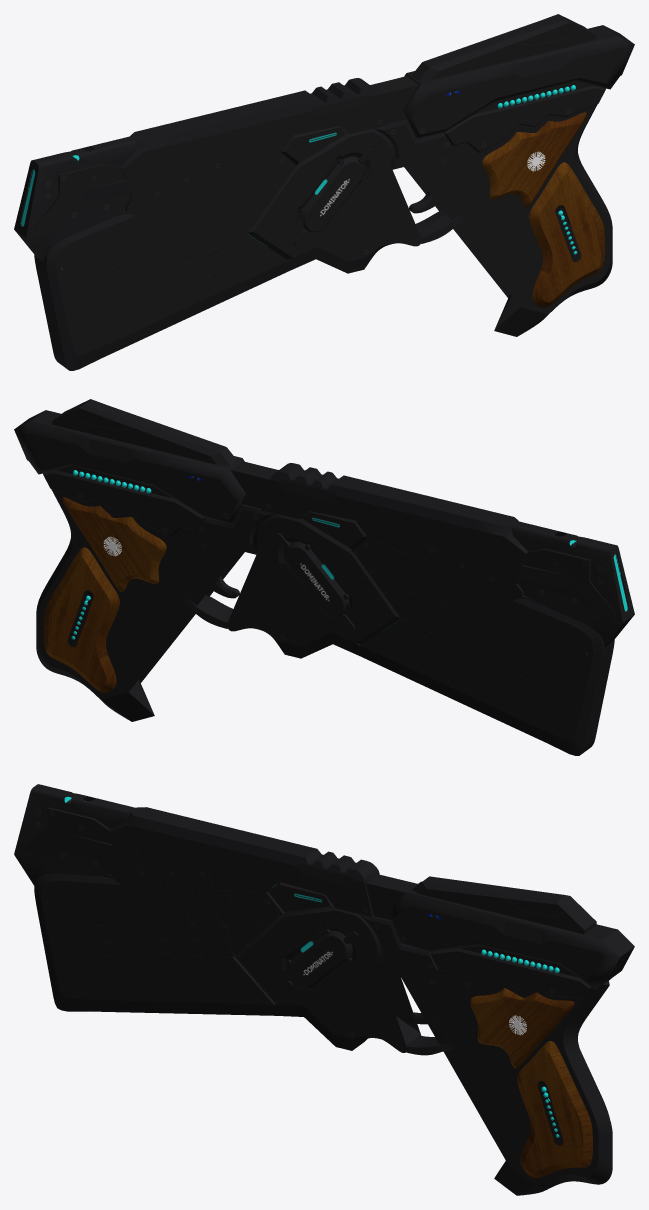
The model's file is Dominator.fbx.
3 renders of one model, top to bottom at view 1: azimuth 30°, elevation 25°; view 2: azimuth 150°, elevation 25°; view 3: azimuth 330°, elevation 25°, orthographic.
Parts seen in each view (by area): view 1: ベジエカーブ.005, ベジエカーブ.006, 平面.004, 平面.001, 平面.020, 平面, ベジエカーブ, 平面.024, ベジエカーブ.003, 平面.014, 平面.007, 平面.008 (+16 smaller); view 2: ベジエカーブ.005, ベジエカーブ.006, 平面.032, 平面.001, 平面.044, 平面.048, ベジエカーブ, 平面.024, ベジエカーブ.003, 平面.042, 平面.035, 平面.036 (+16 smaller); view 3: ベジエカーブ.005, ベジエカーブ.006, 平面.001, 平面.004, 平面.020, 平面, ベジエカーブ, 平面.024, ベジエカーブ.003, 平面.014, 平面.007, 平面.008 (+13 smaller).
Part boxes in pixels (<box>): ベジエカーブ.005: <box>343,76,612,336</box>; ベジエカーブ.006: <box>248,128,421,273</box>; 平面.004: <box>20,130,171,261</box>; 平面.001: <box>403,25,634,138</box>; 平面.020: <box>40,233,129,370</box>; 平面: <box>214,82,387,175</box>; ベジエカーブ: <box>529,162,604,307</box>; 平面.024: <box>411,14,596,80</box>; ベジエカーブ.003: <box>482,112,586,207</box>; 平面.014: <box>102,276,196,357</box>; 平面.007: <box>210,157,273,273</box>; 平面.008: <box>149,185,212,301</box>; ベジエカーブ.005: <box>36,461,305,721</box>; ベジエカーブ.006: <box>227,513,400,658</box>; 平面.032: <box>477,515,628,646</box>; 平面.001: <box>14,410,245,523</box>; 平面.044: <box>519,618,608,755</box>; 平面.048: <box>261,467,434,560</box>; ベジエカーブ: <box>44,547,119,692</box>; 平面.024: <box>52,399,237,465</box>; ベジエカーブ.003: <box>62,497,166,592</box>; 平面.042: <box>452,661,546,742</box>; 平面.035: <box>375,542,438,658</box>; 平面.036: <box>436,570,499,686</box>; ベジエカーブ.005: <box>332,874,612,1195</box>; ベジエカーブ.006: <box>235,906,421,1052</box>; 平面.001: <box>389,881,634,990</box>; 平面.004: <box>14,786,165,885</box>; 平面.020: <box>34,874,115,1011</box>; 平面: <box>199,832,373,916</box>; ベジエカーブ: <box>517,1041,592,1177</box>; 平面.024: <box>412,876,596,934</box>; ベジエカーブ.003: <box>470,988,574,1068</box>; 平面.014: <box>90,955,184,1013</box>; 平面.007: <box>196,865,260,1001</box>; 平面.008: <box>135,863,197,999</box>.
Size of the model in its own units: 293 by 142 by 16.18.
